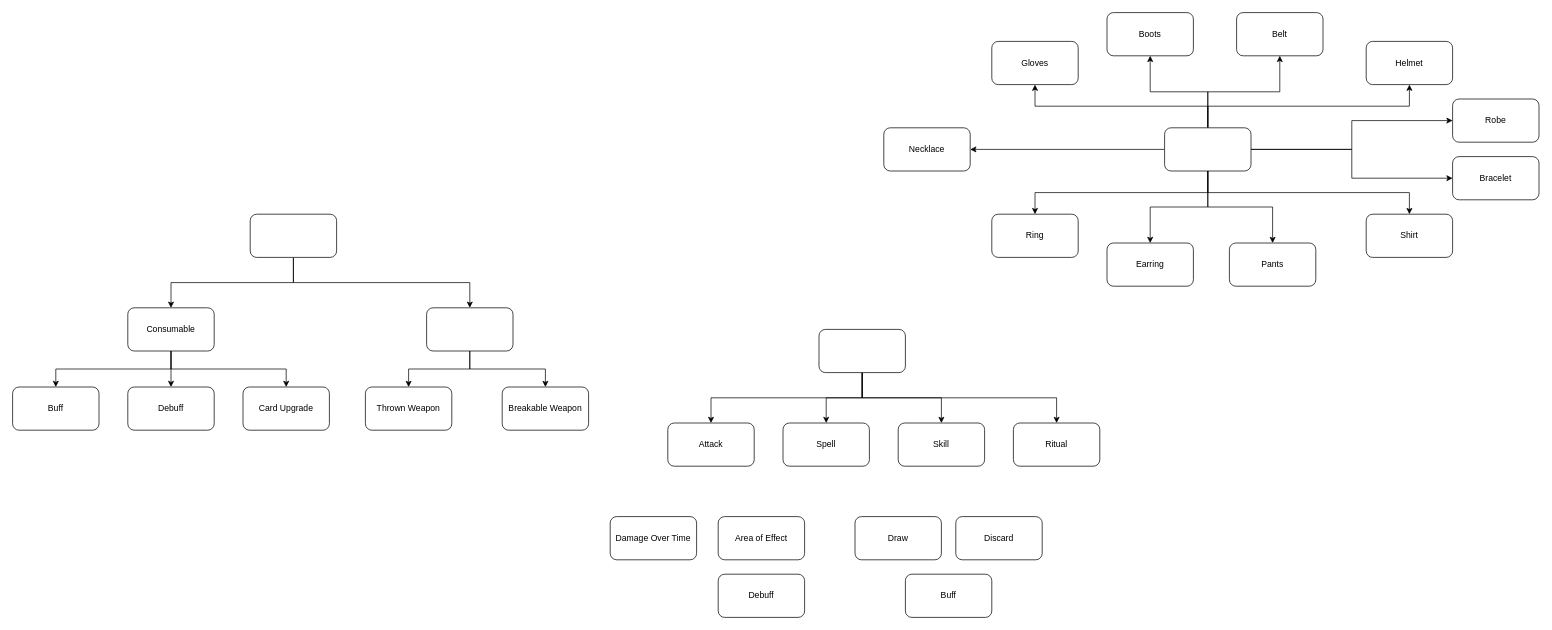
Some shapes in this 1552 by 630 pixel diagram are drawn without their labels. Each missing label, with the box of its shape:
Cards: (818, 329, 905, 373)
Equipment: (1164, 127, 1251, 171)
Items: (249, 213, 337, 257)
Weapon: (426, 307, 513, 351)
